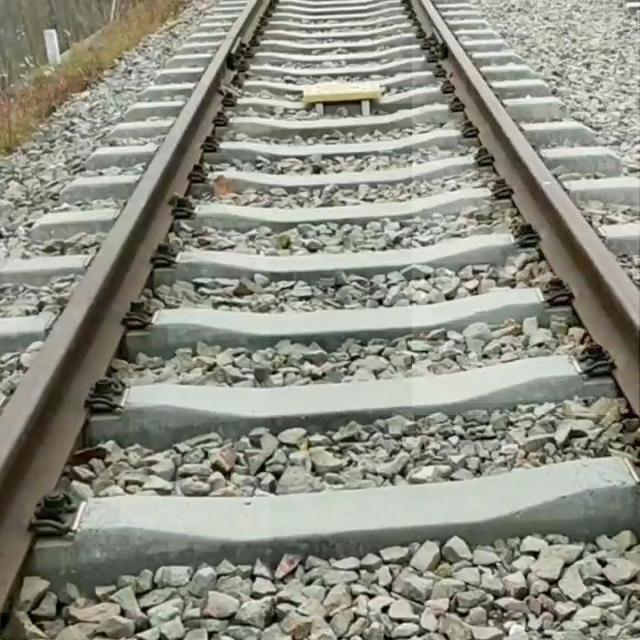rail: (2, 1, 271, 614), (414, 1, 640, 415)
